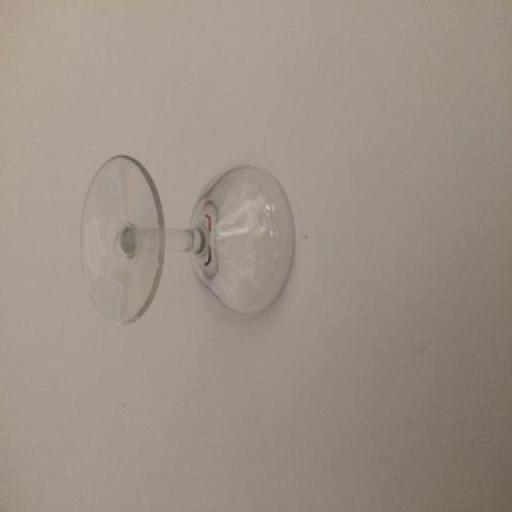glass: (80, 152, 300, 328)
